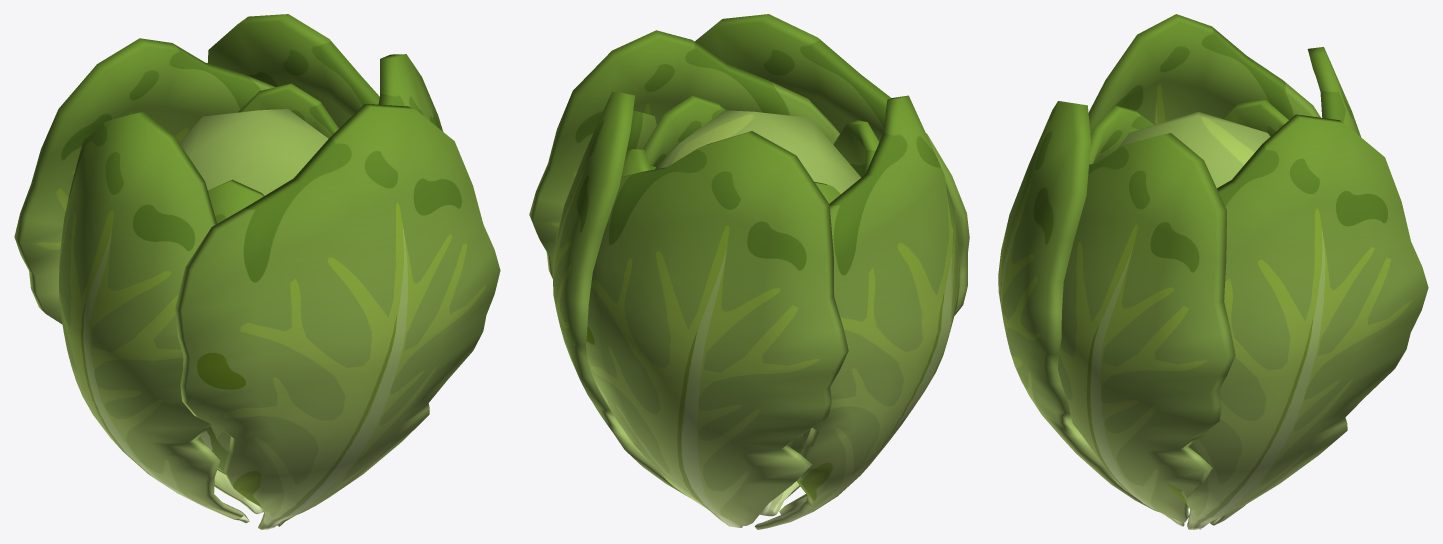
Rendered from Lettuce.fbx.
3 views of the same model, side by side, from view 1: azimuth 30°, elevation 25°; view 2: azimuth 150°, elevation 25°; view 3: azimuth 270°, elevation 25° (orthographic). The views are drawn at different scales.
Parts seen in each view (by area): view 1: Lettuce; view 2: Lettuce; view 3: Lettuce.
Boxes of the visible parts, box(x1,y1,x2,y2) form: Lettuce: box(14, 14, 500, 529); Lettuce: box(529, 14, 969, 529); Lettuce: box(998, 14, 1428, 529).
Bounding box in the file's own units: 19.1 × 20.83 × 18.44.
